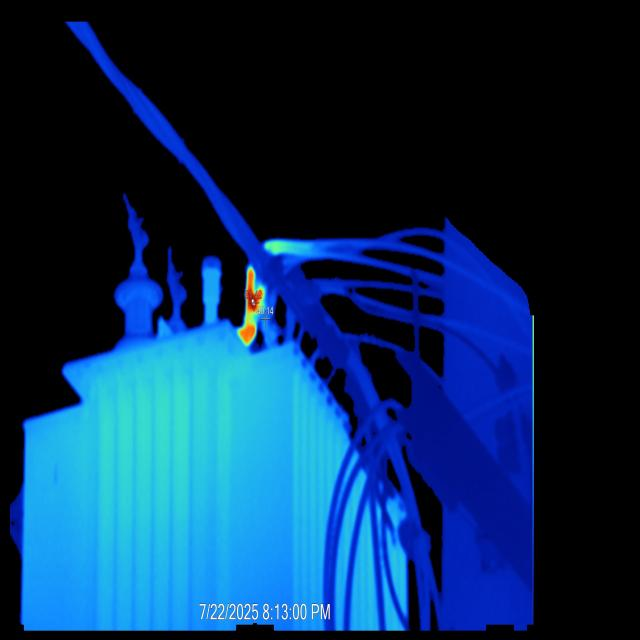Loose Joint F: (238, 266, 270, 345)
